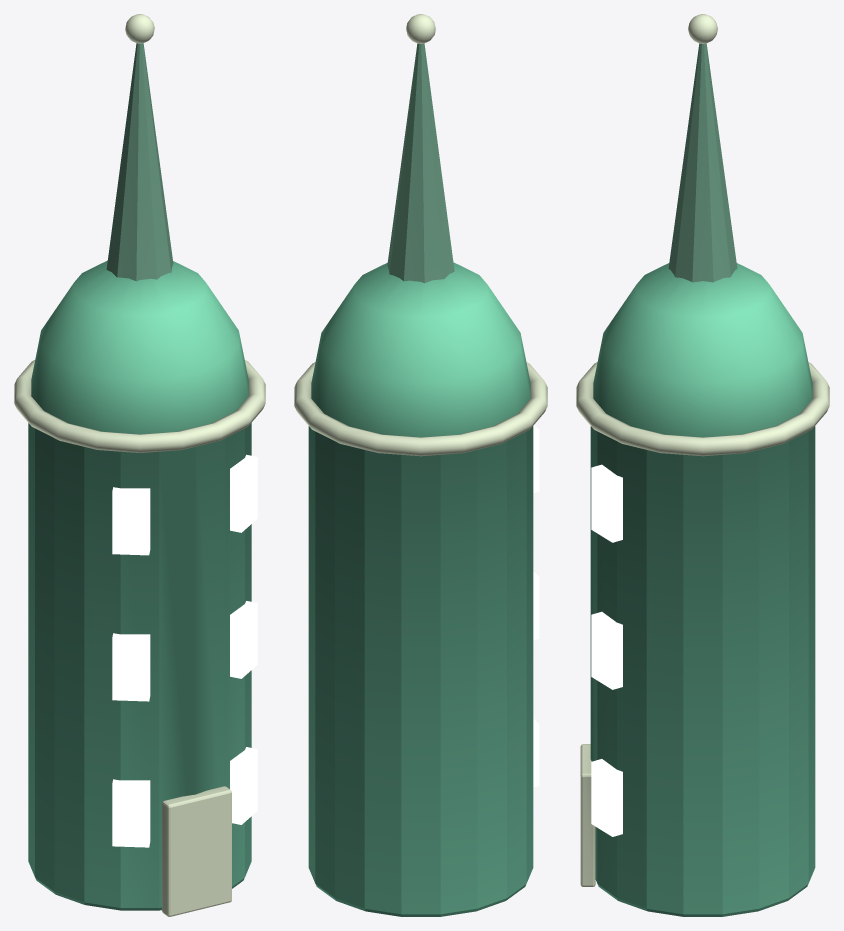
The model's file is emeraldTower.glb.
3 renders of one model, left to right at view 1: azimuth 30°, elevation 25°; view 2: azimuth 150°, elevation 25°; view 3: azimuth 270°, elevation 25°, orthographic.
Visible parts, largest first — view 1: EmeraldTower; view 2: EmeraldTower; view 3: EmeraldTower.
Boxes of the visible parts, x1,y1,x2,y2 form: EmeraldTower: [14, 14, 265, 916]; EmeraldTower: [294, 14, 547, 916]; EmeraldTower: [576, 14, 829, 916].
Bounding box in the file's own units: 2.06 × 7.57 × 2.03.
